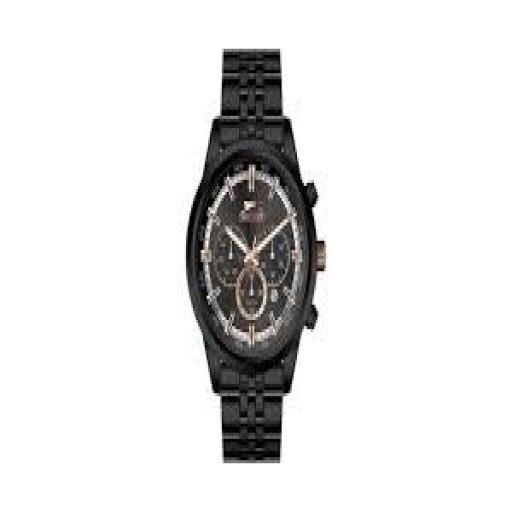KolSaati: (181, 26, 331, 476)
